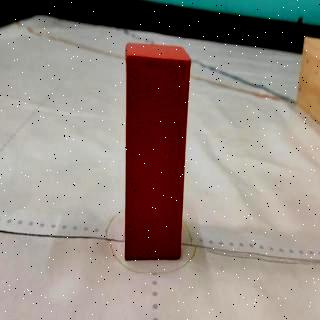redbox: (124, 40, 191, 259)
